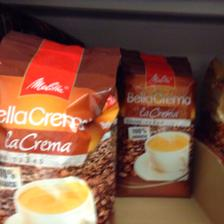Kaffee: (0, 34, 118, 222), (116, 49, 196, 194)
